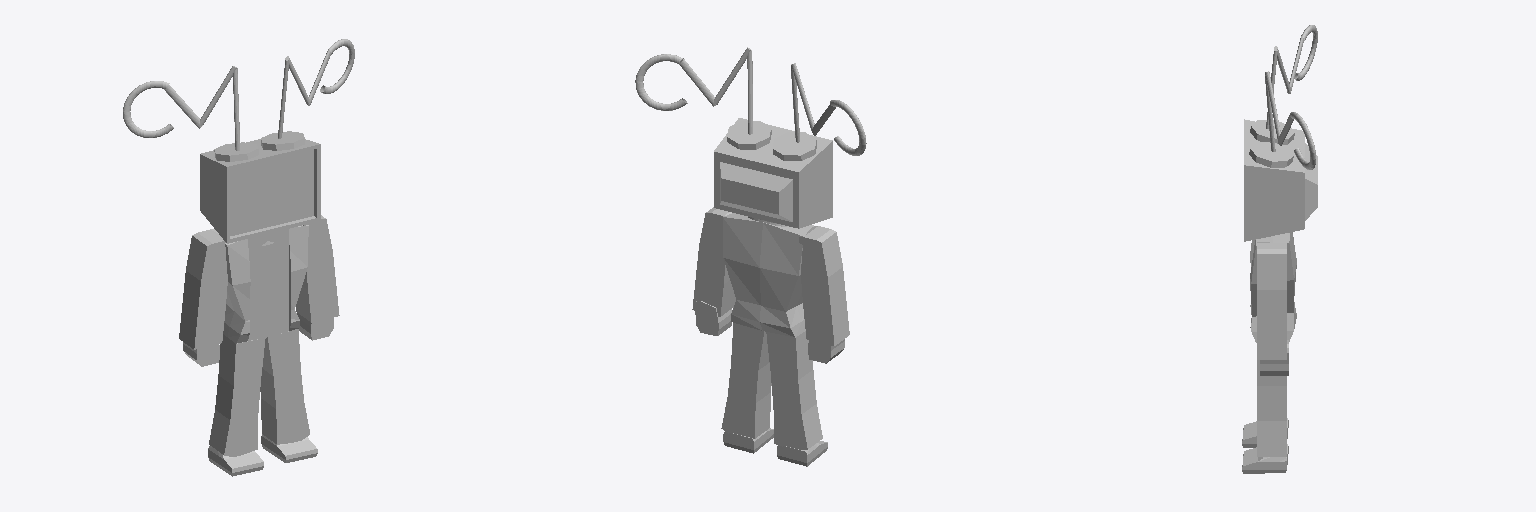
The model's file is seeze.obj.
The picture shows the model from 3 angles: view 1: azimuth 30°, elevation 25°; view 2: azimuth 150°, elevation 25°; view 3: azimuth 270°, elevation 25°; orthographic projection.
Visible parts, largest first — view 1: sdfg; view 2: sdfg; view 3: sdfg.
Boxes of the visible parts, x1=… form: sdfg: x1=123, y1=39, x2=354, y2=476; sdfg: x1=635, y1=47, x2=866, y2=466; sdfg: x1=1242, y1=25, x2=1317, y2=473.
Bounding box in the file's own units: 19.61 × 32.08 × 5.6.